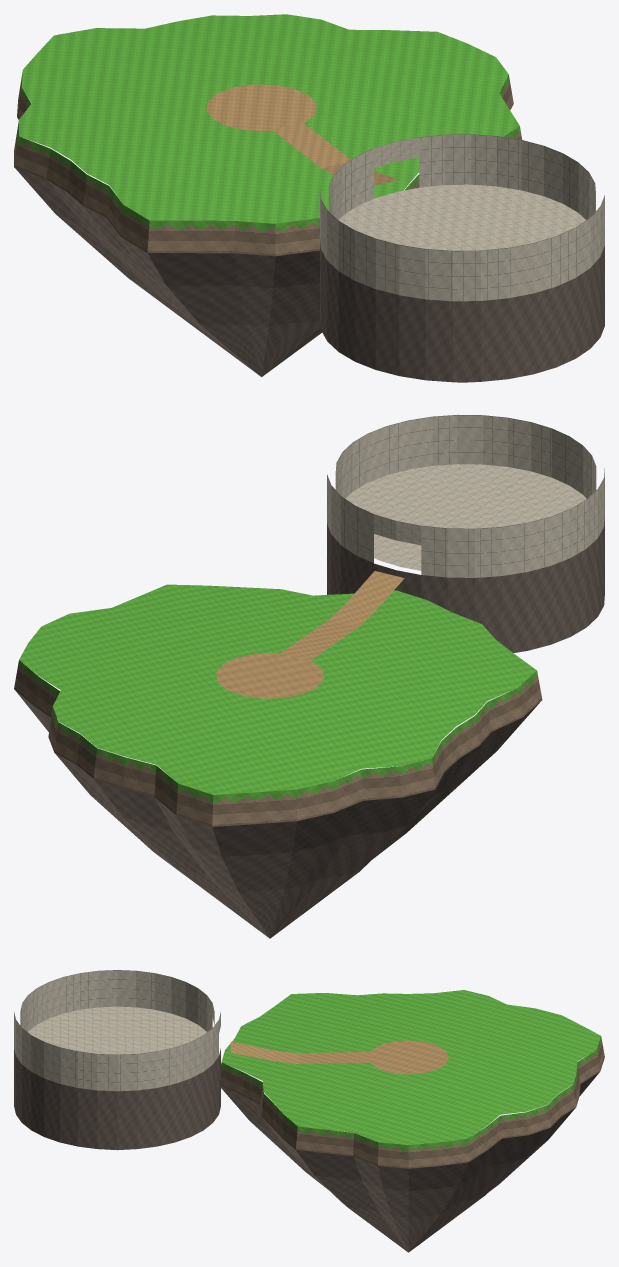
The model's file is island-distant.glb.
3 views of the same model, one above another, from view 1: azimuth 30°, elevation 25°; view 2: azimuth 150°, elevation 25°; view 3: azimuth 270°, elevation 25° (orthographic). The views are drawn at different scales.
Visible parts, largest first — view 1: island-distant; view 2: island-distant; view 3: island-distant.
Part boxes in pixels (<box>): island-distant: <box>14,14,604,382</box>; island-distant: <box>14,414,604,938</box>; island-distant: <box>14,970,604,1252</box>.
Size of the model in its own units: 46.33 by 33 by 73.1.
5 materials, 5 textured.
